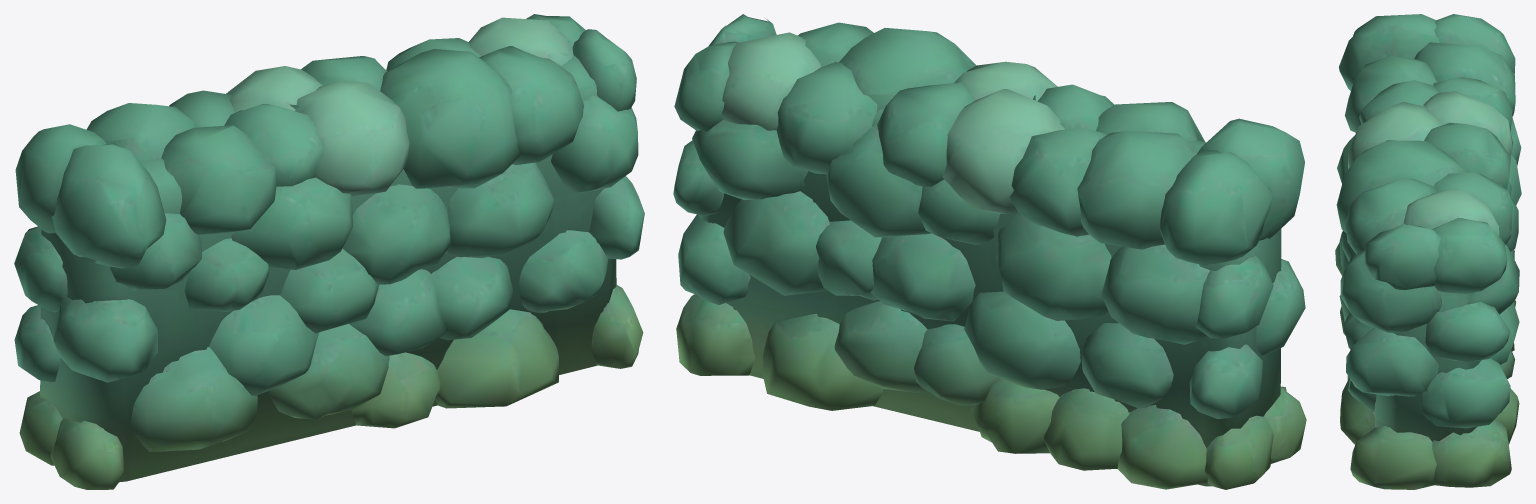
The model's file is hedge.glb.
3 renders of one model, left to right at view 1: azimuth 30°, elevation 25°; view 2: azimuth 150°, elevation 25°; view 3: azimuth 270°, elevation 25°, orthographic. The views are drawn at different scales.
Visible parts, largest first — view 1: hedge_body; view 2: hedge_body; view 3: hedge_body.
Part boxes in pixels (x1,y1,x2,y2): hedge_body: (14,14,644,489); hedge_body: (673,14,1306,489); hedge_body: (1335,14,1521,489).
Size of the model in its own units: 1.97 by 1.07 by 0.6707.
Materials: 1 (1 with a texture image).
